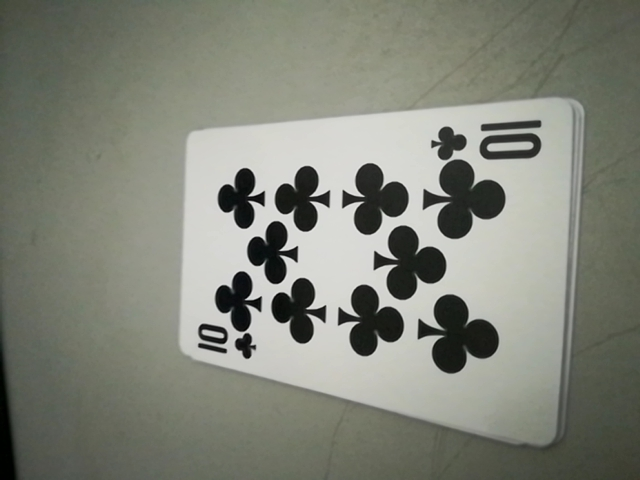mh 10: (430, 114, 553, 165), (188, 322, 262, 366)
